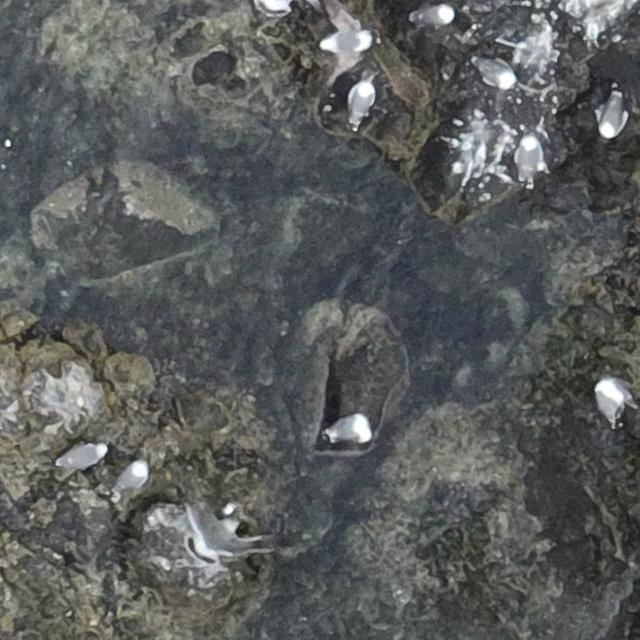F: (318, 4, 372, 76), (184, 510, 256, 561)
umineko: (594, 378, 635, 425), (471, 56, 517, 88), (60, 442, 105, 467), (115, 460, 147, 492), (328, 414, 368, 438), (517, 136, 539, 176), (600, 101, 624, 137), (352, 82, 374, 118), (417, 6, 454, 26)
